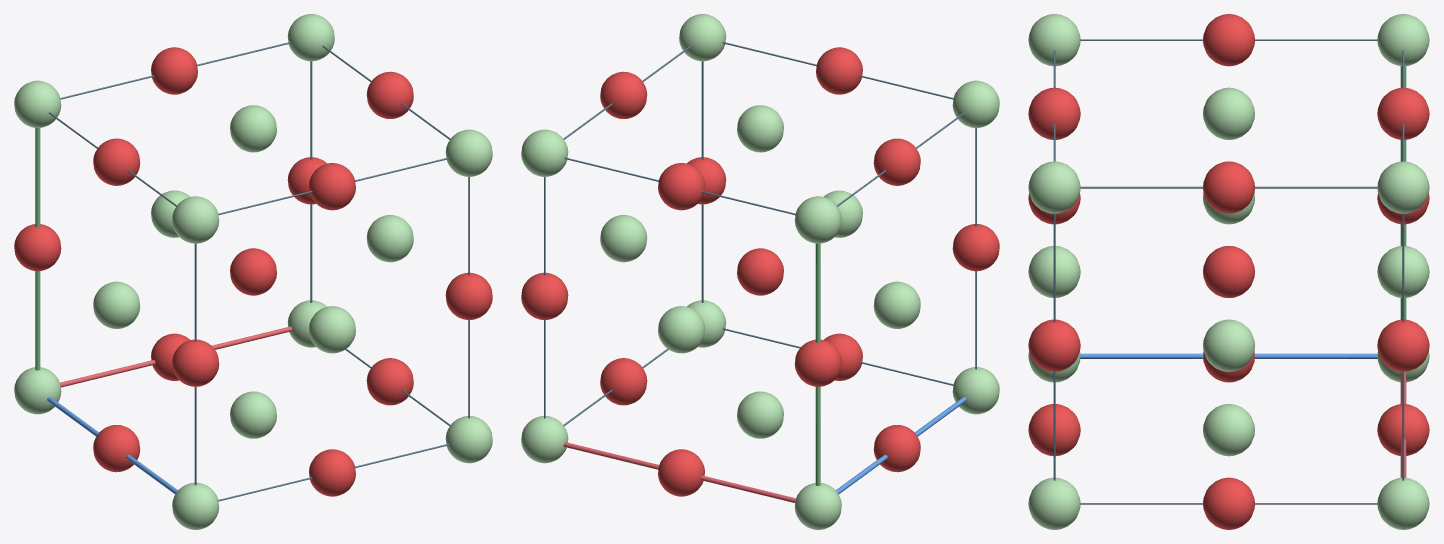
Rendered from chat-cobalt-oxide.glb.
The picture shows the model from 3 angles, left to right: view 1: azimuth 30°, elevation 25°; view 2: azimuth 150°, elevation 25°; view 3: azimuth 270°, elevation 25°; orthographic projection. The views are drawn at different scales.
Visible parts, largest first — view 1: Co · Co · 1 (×14), O · O · 1 (×13), Ô mạng và các trục a, b, c; view 2: Co · Co · 1 (×14), O · O · 1 (×13), Ô mạng và các trục a, b, c; view 3: Co · Co · 1 (×14), O · O · 1 (×13), Ô mạng và các trục a, b, c.
Part boxes in pixels (x1,y1,x2,y2): Co · Co · 1 (×14): (14,14,492,529); O · O · 1 (×13): (14,47,492,496); Ô mạng và các trục a, b, c: (35,42,469,501); Co · Co · 1 (×14): (521,14,999,529); O · O · 1 (×13): (521,47,999,496); Ô mạng và các trục a, b, c: (544,42,976,502); Co · Co · 1 (×14): (1028,14,1429,529); O · O · 1 (×13): (1028,14,1429,529); Ô mạng và các trục a, b, c: (1053,39,1406,504).
Size of the model in its own units: 4.91 by 4.91 by 4.91.
